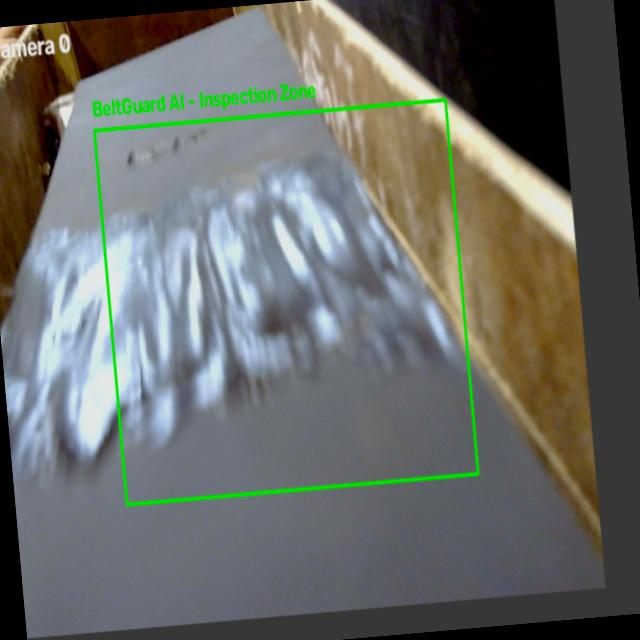Joint_Damage: (16, 177, 410, 459)
